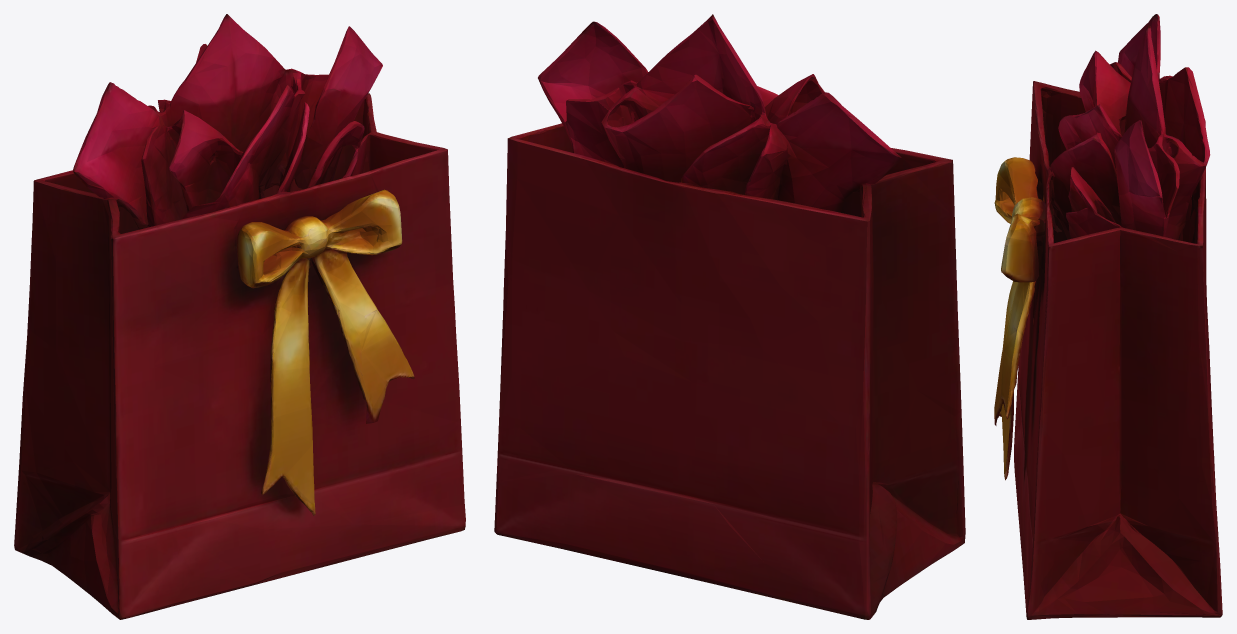
3 views of the same model, side by side, from view 1: azimuth 30°, elevation 25°; view 2: azimuth 150°, elevation 25°; view 3: azimuth 270°, elevation 25° (orthographic). The views are drawn at different scales.
Visible parts, largest first — view 1: geometry_0; view 2: geometry_0; view 3: geometry_0.
Boxes of the visible parts, <box> form: geometry_0: <box>14,14,465,619</box>; geometry_0: <box>494,14,965,619</box>; geometry_0: <box>994,14,1222,619</box>.
Bounding box in the file's own units: 0.7307 × 0.9993 × 0.4056.
Materials: 1 (1 with a texture image).
